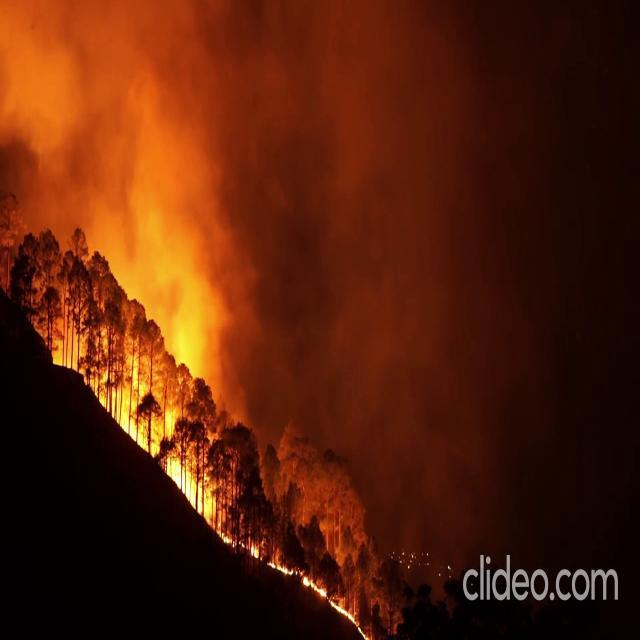Fire: (168, 460, 218, 530), (282, 561, 324, 599), (334, 597, 359, 631)
Smoke: (0, 3, 565, 413)
